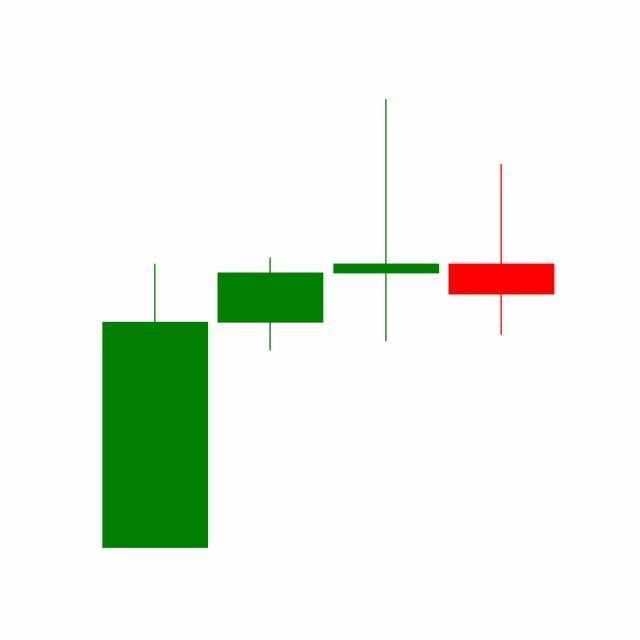Spinning Top: (444, 162, 560, 338)
